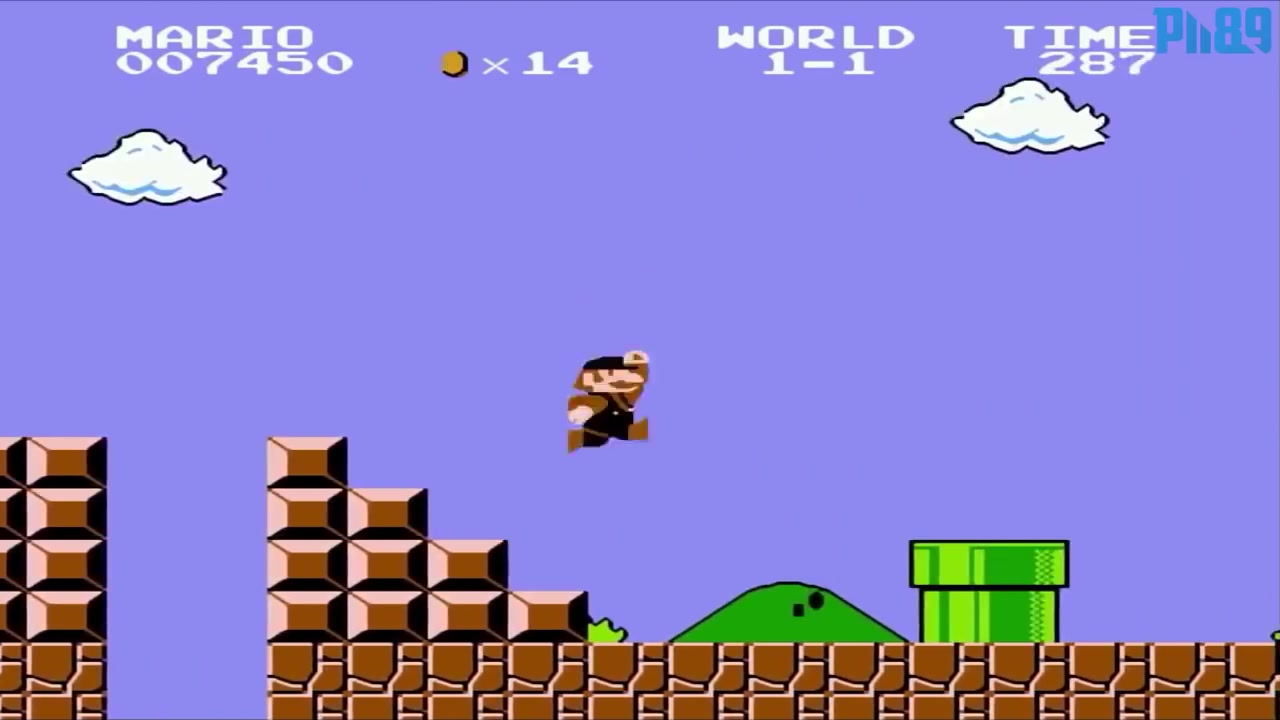mario: (562, 343, 668, 453)
